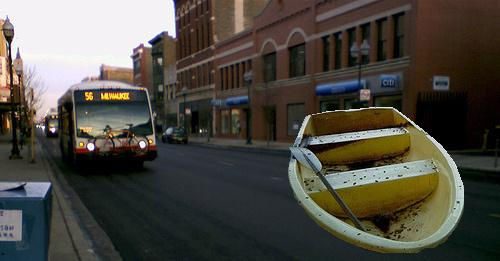tampered: (289, 108, 464, 253)
